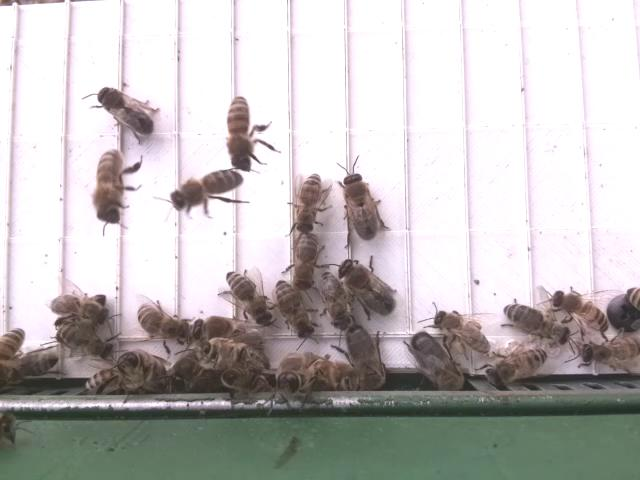Drone: (336, 254, 401, 324), (409, 330, 466, 392), (95, 84, 157, 139), (337, 169, 381, 242), (343, 324, 389, 390)
Worker: (499, 299, 579, 350), (219, 265, 281, 329), (542, 284, 613, 339), (166, 169, 245, 211), (192, 331, 266, 375), (90, 147, 128, 227), (431, 308, 493, 357), (486, 343, 551, 387), (316, 270, 362, 331), (113, 349, 173, 395), (274, 280, 317, 344), (274, 354, 323, 409), (135, 297, 189, 346), (55, 324, 121, 364), (226, 92, 258, 172), (574, 339, 640, 374), (291, 169, 325, 235), (48, 292, 112, 327), (288, 229, 322, 291)
